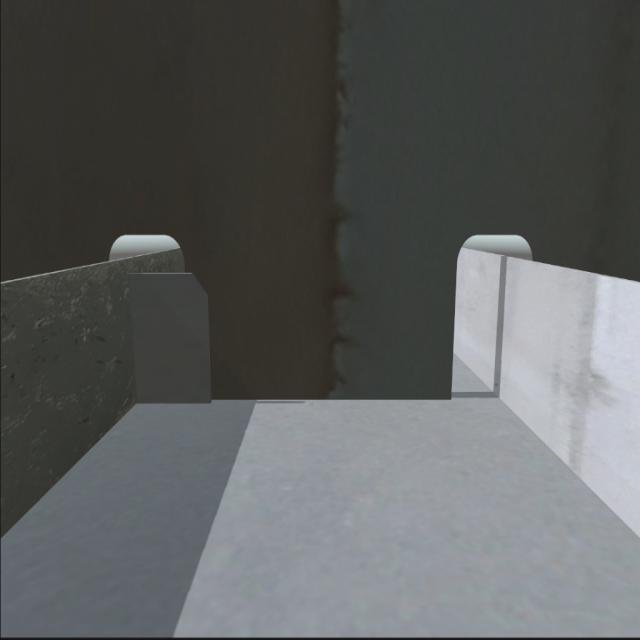fillet_yong_jeop_jang: (132, 385, 454, 412)
longi_yong_jeop_jang: (128, 268, 140, 412)
plate_CP03: (131, 271, 213, 407)
